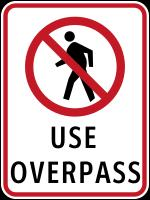Pedestrian Prohibited: (18, 12, 130, 120)
